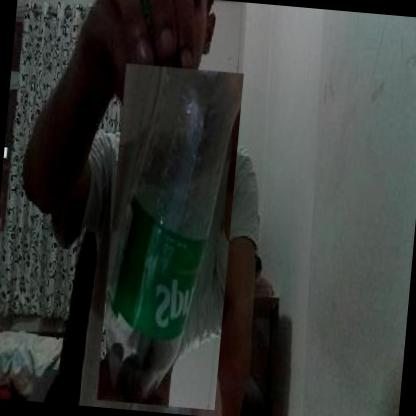plastic_bottles: (96, 62, 244, 412)
